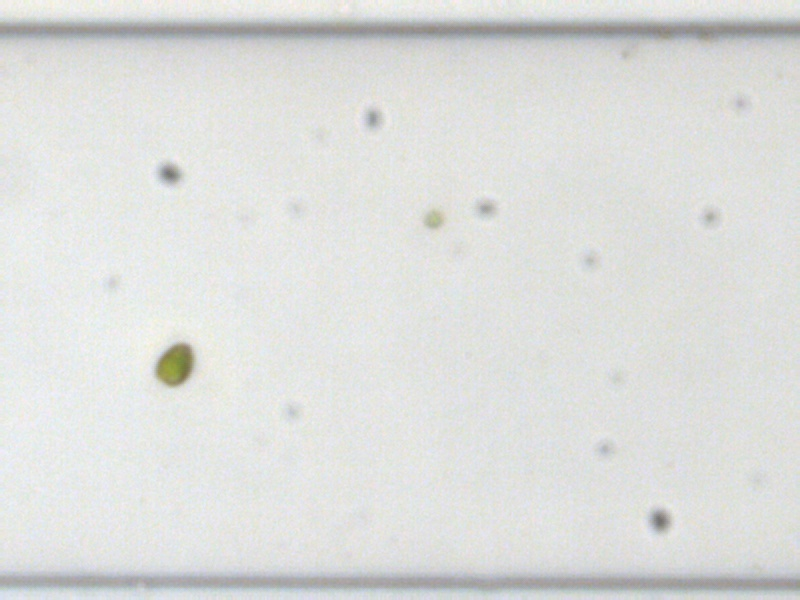Chlorella: (422, 209, 444, 228)
Platymonas: (153, 336, 195, 390)
